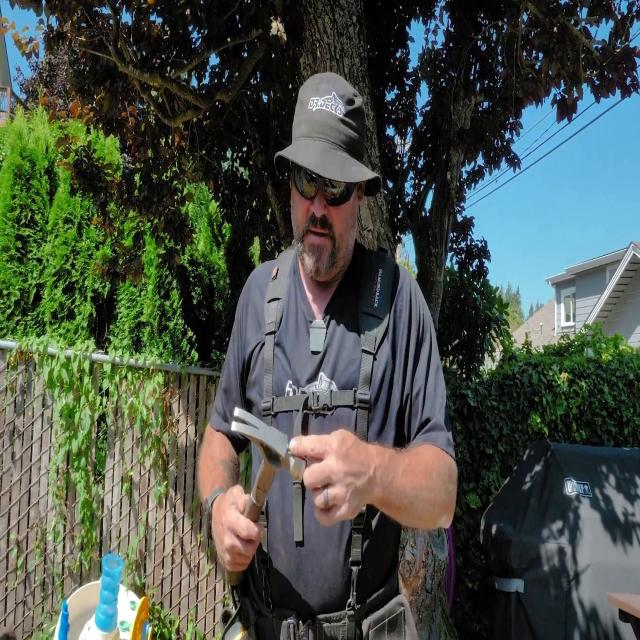hammer: (230, 406, 308, 544)
